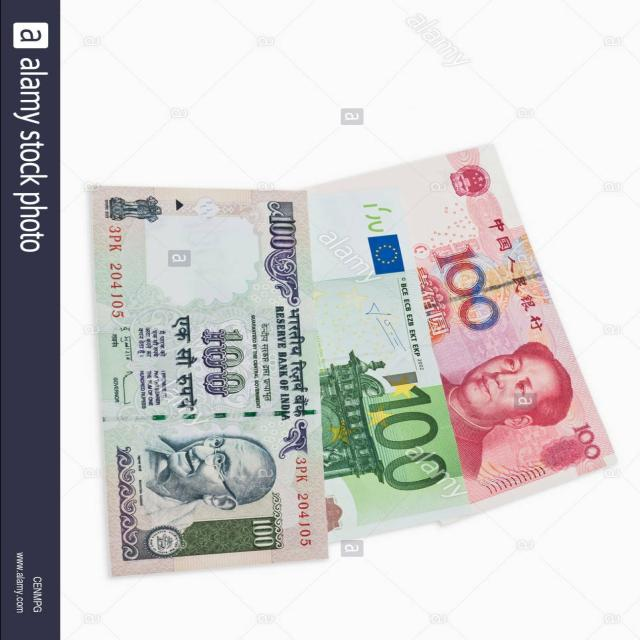100IndianRupees: (87, 184, 332, 580)
